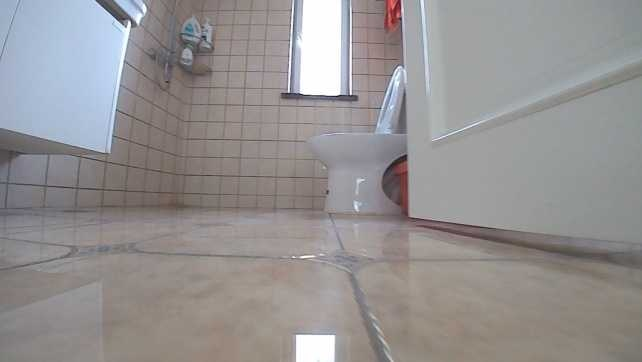toilet: (304, 66, 405, 216)
